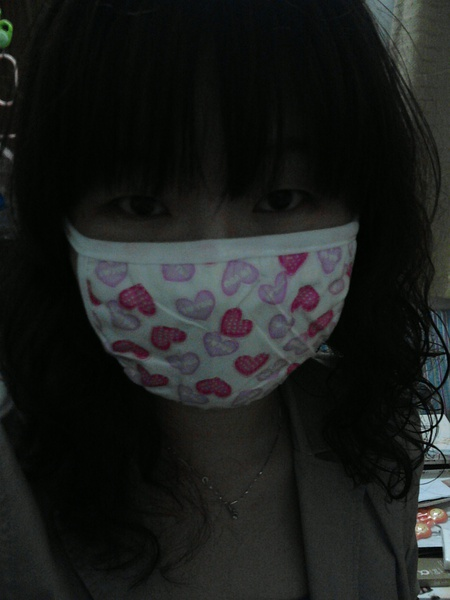face_mask: (69, 33, 353, 421)
